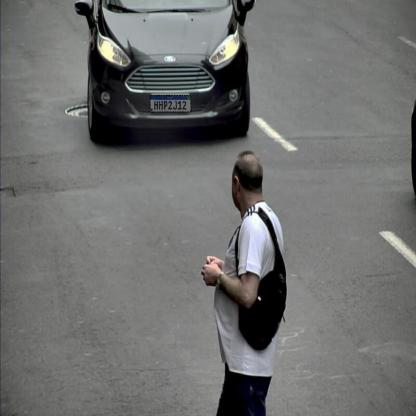PlacaM: (150, 95, 191, 112)
